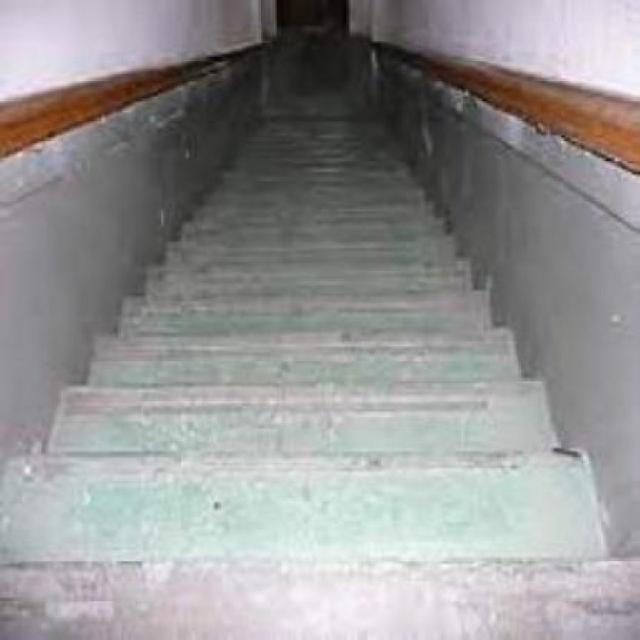stair: (11, 108, 606, 576)
